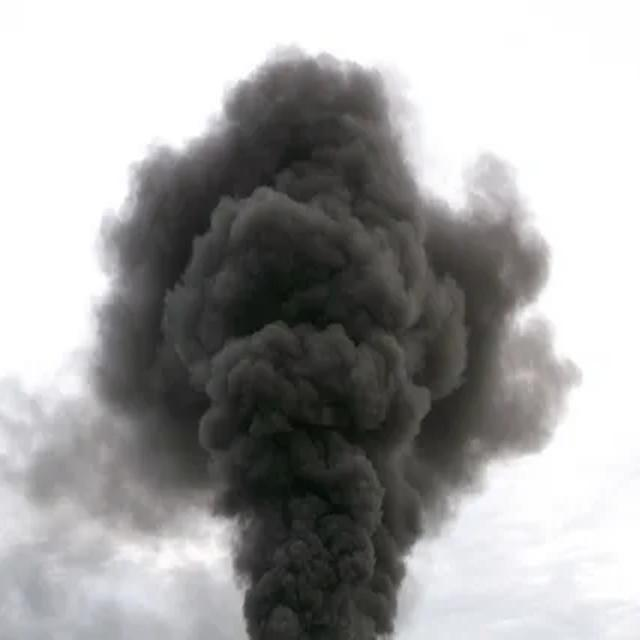Smoke: (97, 47, 585, 640)
